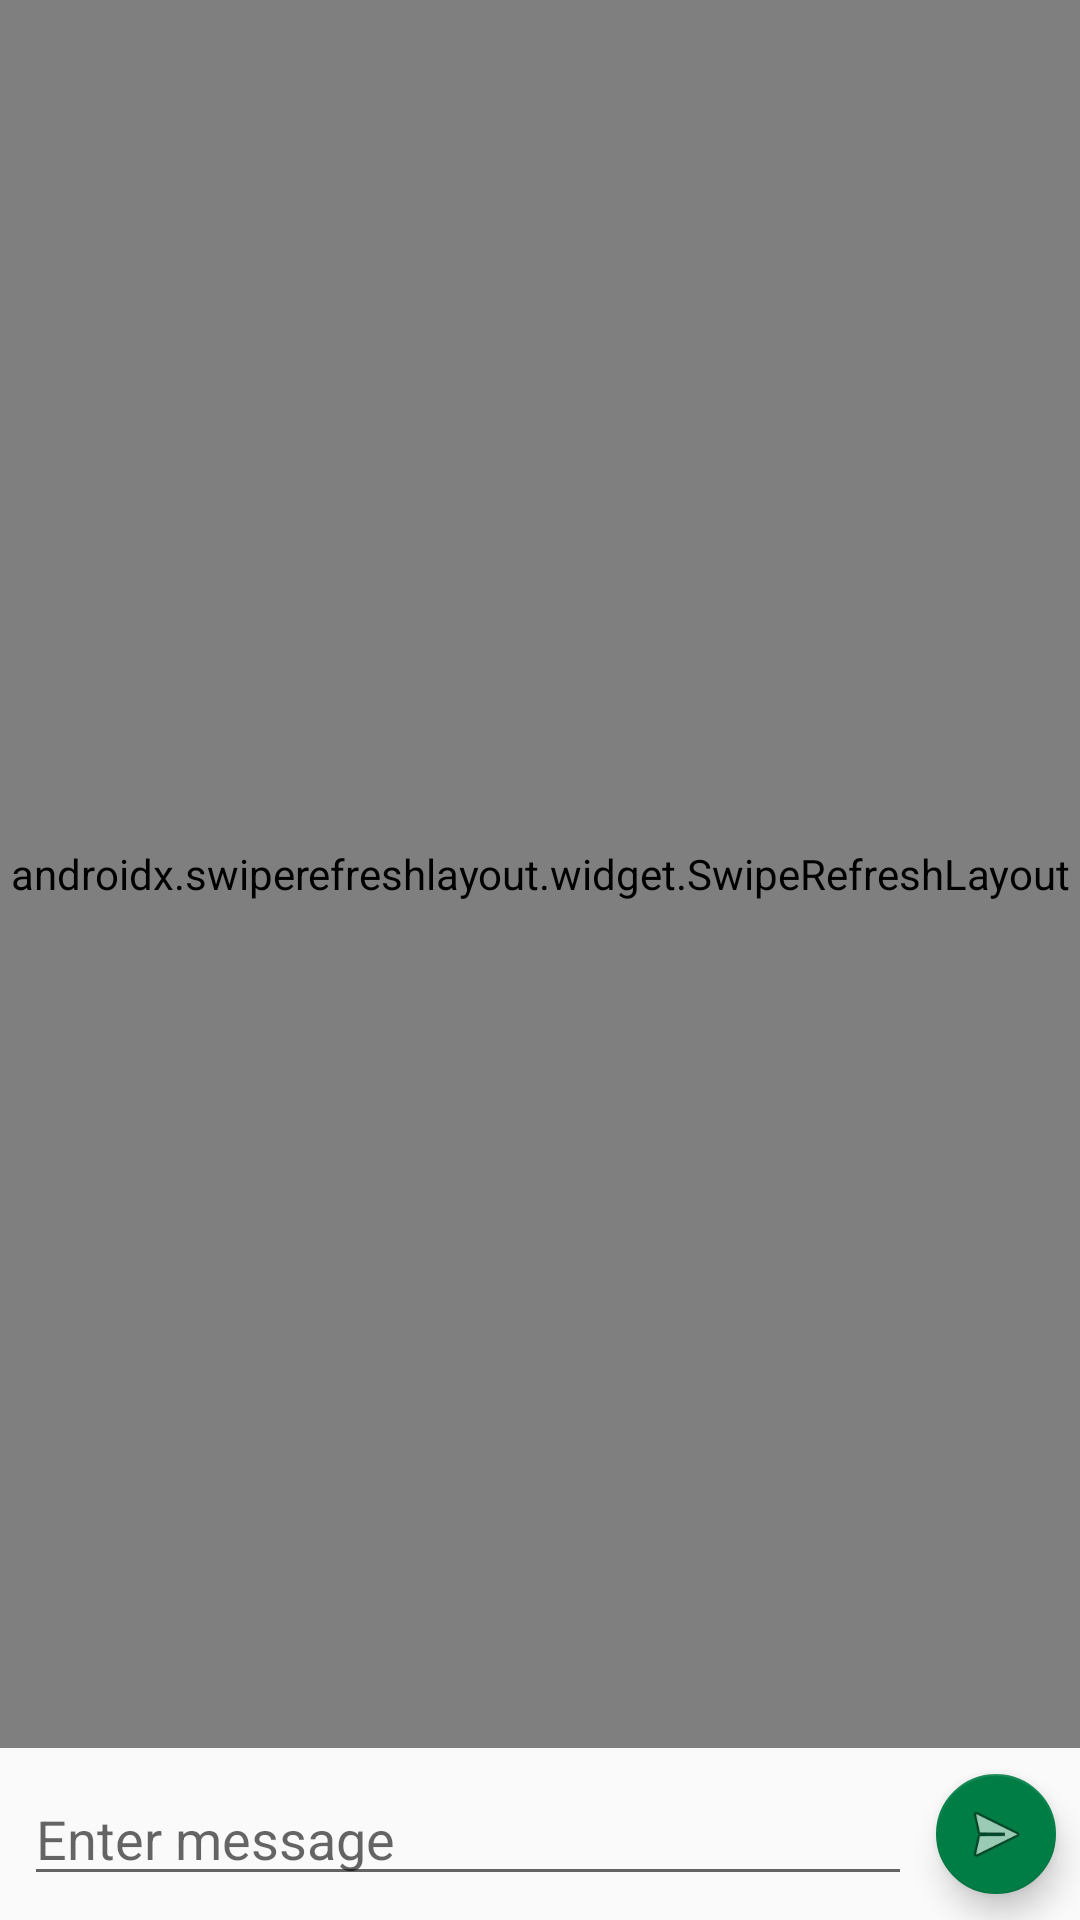

Icon bounding boxes for this 1080x1920 phone screenshot, format (x1, y1, x2, y2):
send: (936, 1774, 1056, 1894)
